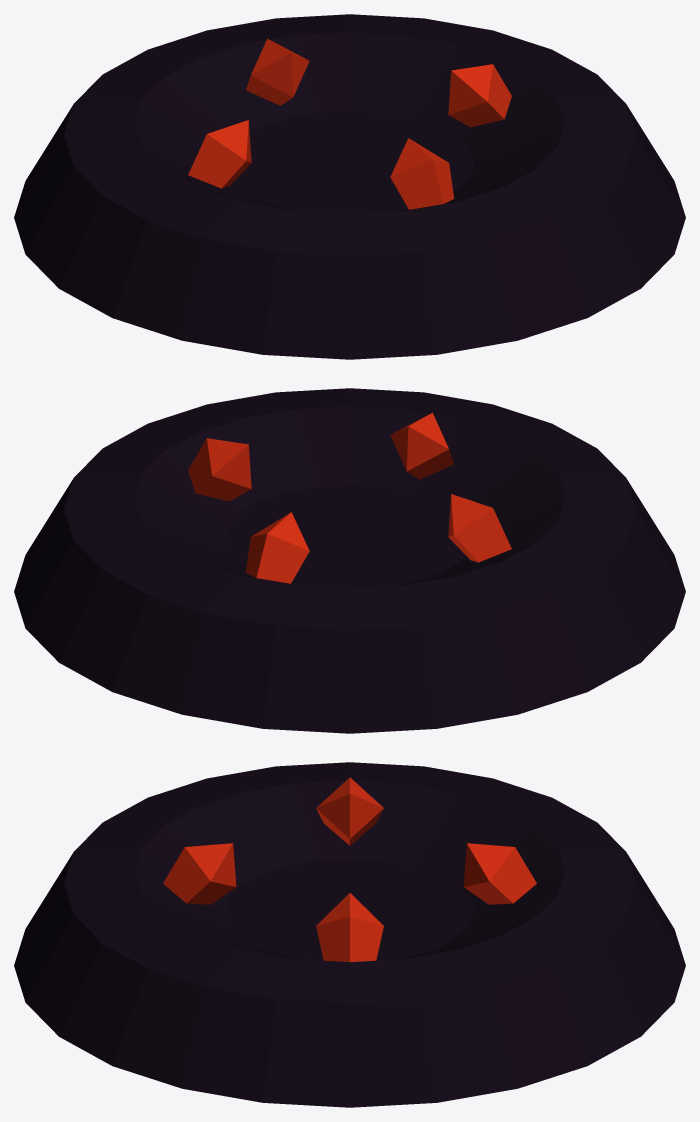
File: ObeliskBase.fbx
3 views of the same model, one above another, from view 1: azimuth 30°, elevation 25°; view 2: azimuth 150°, elevation 25°; view 3: azimuth 270°, elevation 25° (orthographic).
Parts seen in each view (by area): view 1: Cylinder; view 2: Cylinder; view 3: Cylinder.
Boxes of the visible parts, box(x1,y1,x2,y2) form: Cylinder: box(14, 14, 685, 359); Cylinder: box(14, 388, 685, 733); Cylinder: box(14, 762, 685, 1107).
Bounding box in the file's own units: 202 × 40.63 × 202.
